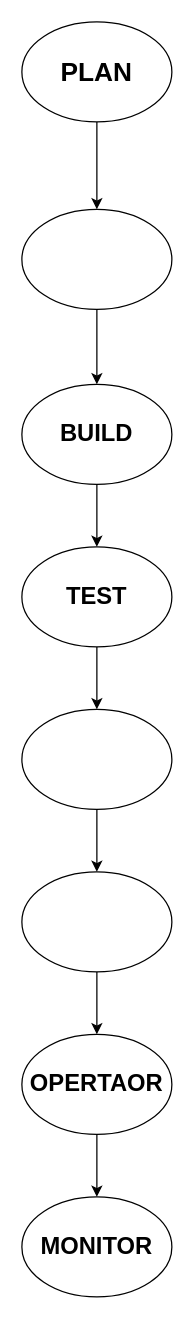
Image size: 194x1319. Some labels were removed from this diagram. The box of each missing label's shape, as (x1, y1, x2, y2) in pixels:
DEPLOY: (21, 871, 172, 972)
DEVELOP: (21, 208, 172, 309)
RELEASE: (21, 708, 172, 809)
